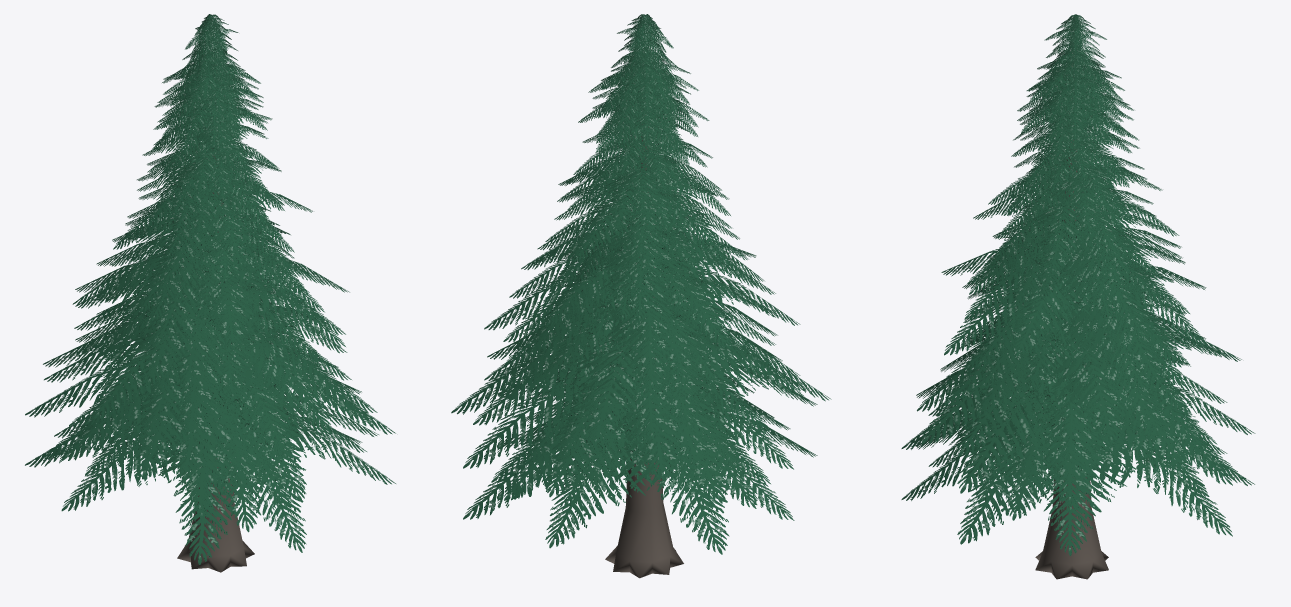
The model's file is pine_Tree.fbx.
3 renders of one model, left to right at view 1: azimuth 30°, elevation 25°; view 2: azimuth 150°, elevation 25°; view 3: azimuth 270°, elevation 25°, orthographic.
Parts seen in each view (by area): view 1: Pine_Tree; view 2: Pine_Tree; view 3: Pine_Tree.
Part boxes in pixels (<box>): Pine_Tree: <box>25,14,395,572</box>; Pine_Tree: <box>451,14,831,578</box>; Pine_Tree: <box>901,14,1255,579</box>.
Size of the model in its own units: 24.85 by 37.75 by 25.18.
